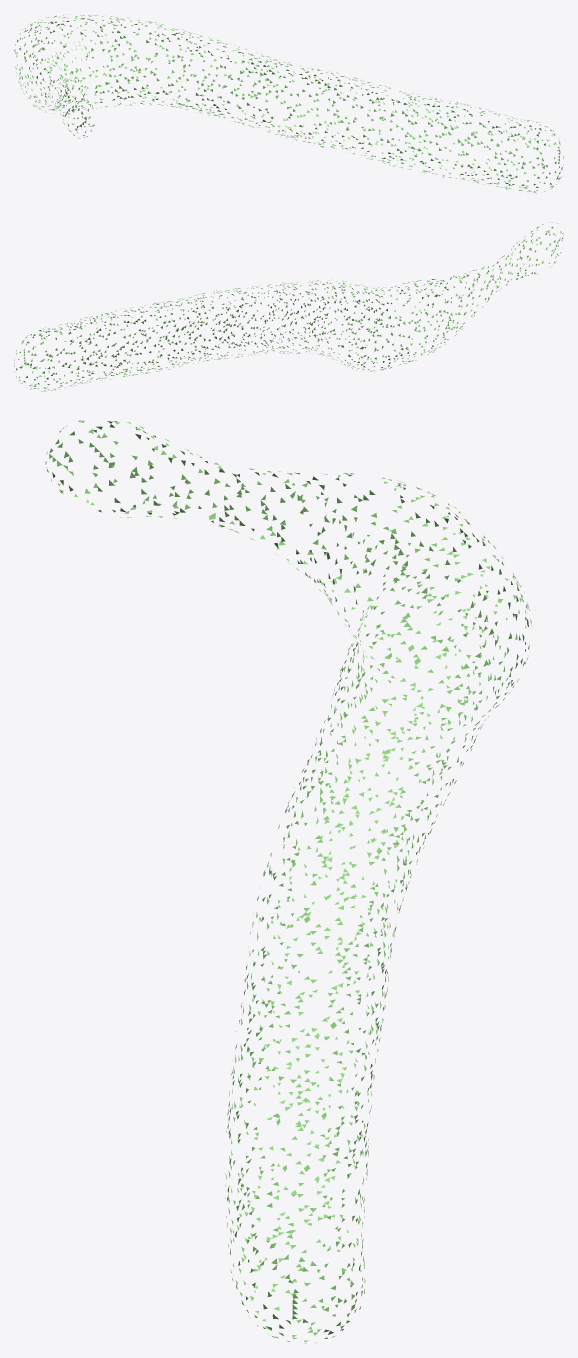
The model's file is morph_015.glb.
3 renders of one model, top to bottom at view 1: azimuth 30°, elevation 25°; view 2: azimuth 150°, elevation 25°; view 3: azimuth 270°, elevation 25°, orthographic. The views are drawn at different scales.
Size of the model in its own units: 128 by 60.25 by 55.79.
